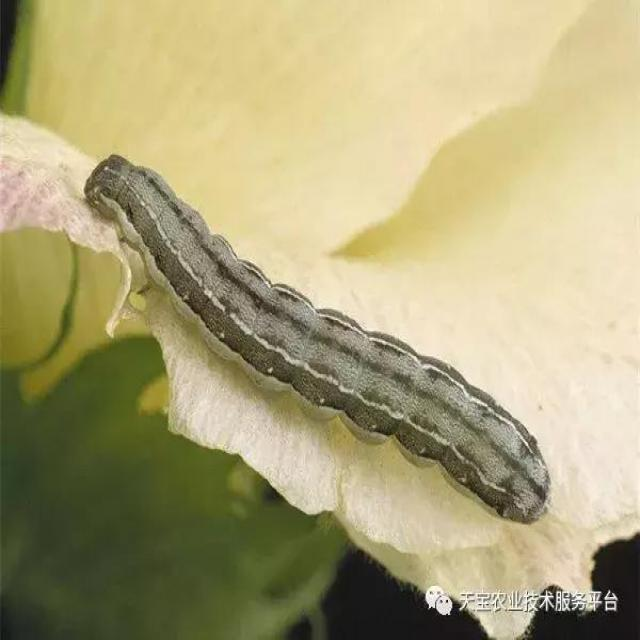armyworm: (76, 117, 580, 564)
